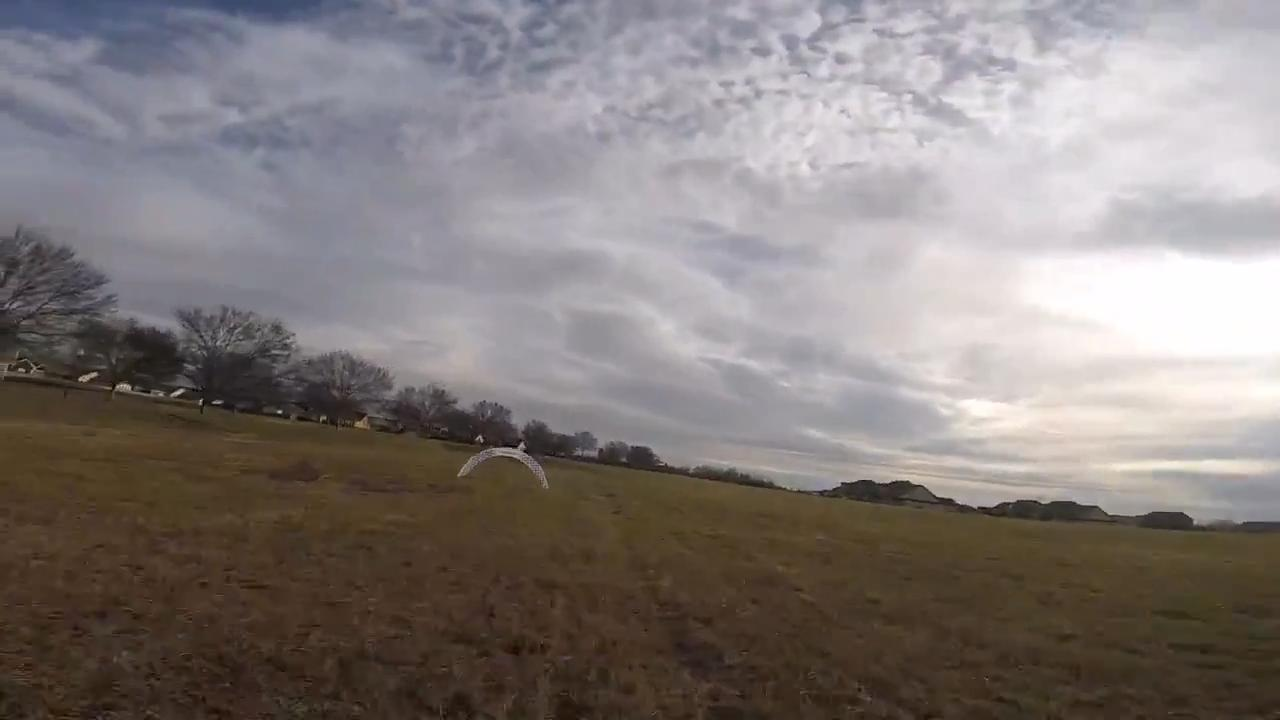gate: (454, 445, 549, 490)
